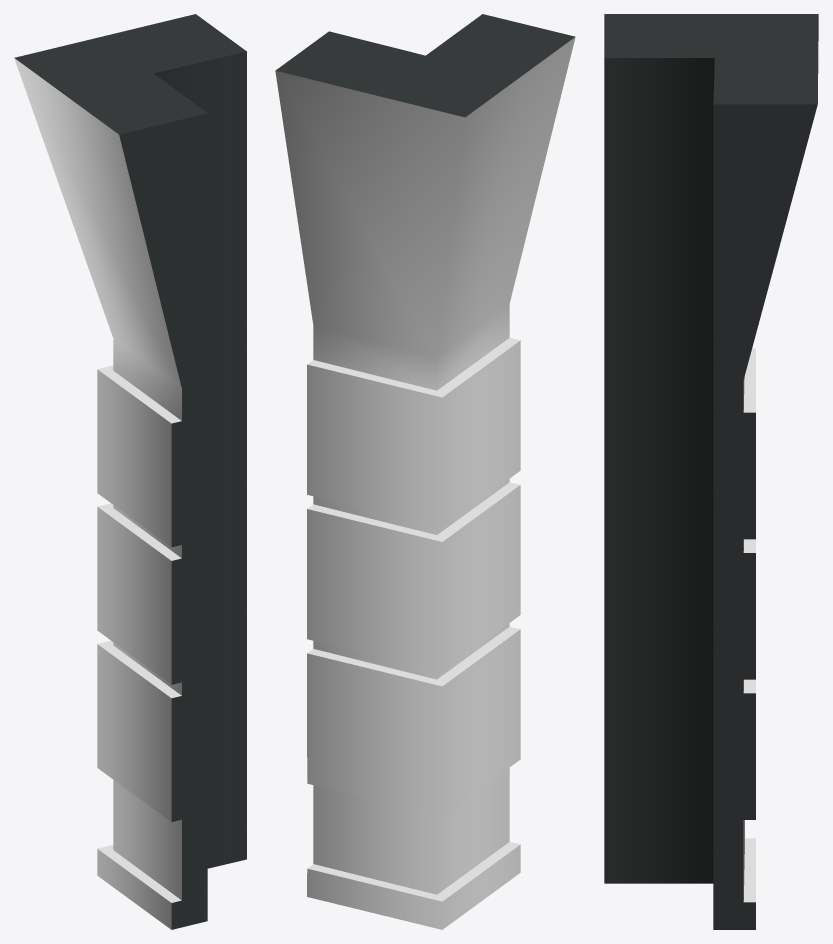
Rendered from Interior_Wall_Convex.FBX.
3 views of the same model, side by side, from view 1: azimuth 30°, elevation 25°; view 2: azimuth 150°, elevation 25°; view 3: azimuth 270°, elevation 25° (orthographic). The views are drawn at different scales.
Parts seen in each view (by area): view 1: Box004; view 2: Box004; view 3: Box004.
Boxes of the visible parts, x1,y1,x2,y2 form: Box004: (14,14,246,929); Box004: (275,14,575,929); Box004: (604,14,818,929).
Bounding box in the file's own units: 27.71 × 118 × 27.82.
Materials: 1 (1 with a texture image).
